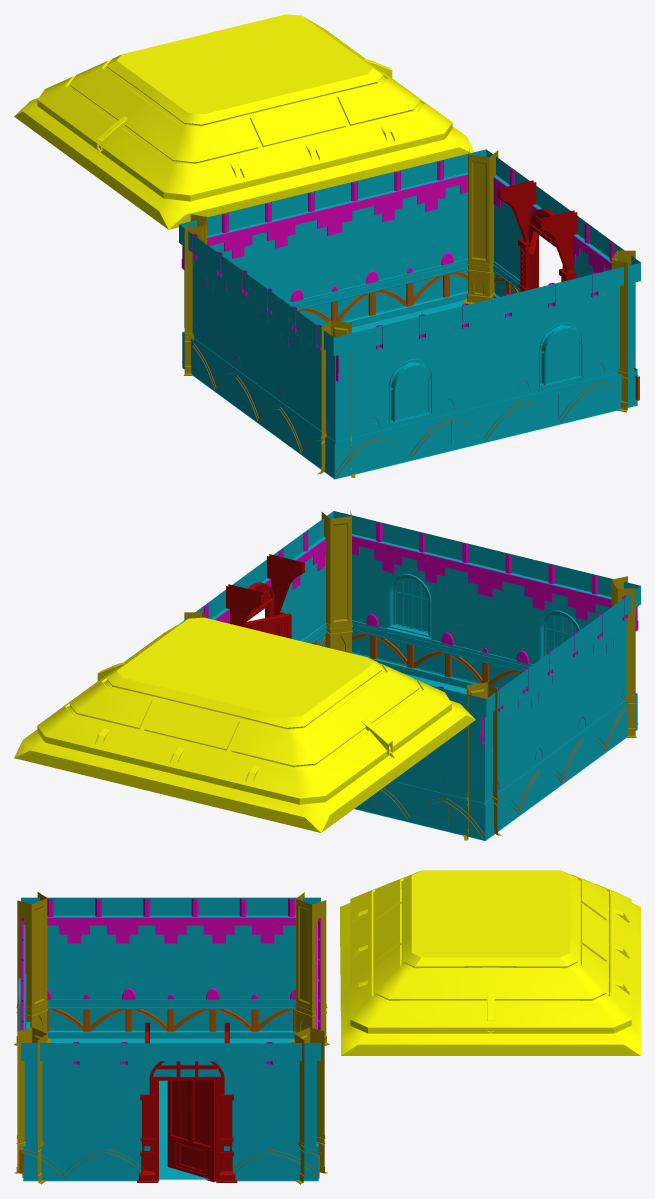
The model's file is New_Room.fbx.
3 renders of one model, top to bottom at view 1: azimuth 30°, elevation 25°; view 2: azimuth 150°, elevation 25°; view 3: azimuth 270°, elevation 25°, orthographic. The views are drawn at different scales.
Visible parts, largest first — view 1: Room_id_Wall, Roof, pole, Wall_pattern1, polySurface5, Beam1; view 2: Roof, Room_id_Wall, Wall_pattern1, pole, polySurface5, Beam1, polySurface7; view 3: Room_id_Wall, Roof, pole, Wall_pattern1, polySurface7, polySurface5, Beam1.
Part boxes in pixels (bbox=[...]): Room_id_Wall: bbox=[179, 149, 640, 479]; Roof: bbox=[14, 14, 474, 229]; pole: bbox=[183, 149, 635, 477]; Wall_pattern1: bbox=[181, 160, 614, 432]; polySurface5: bbox=[498, 180, 577, 291]; Beam1: bbox=[182, 271, 639, 476]; Roof: bbox=[14, 617, 475, 832]; Room_id_Wall: bbox=[181, 511, 640, 840]; Wall_pattern1: bbox=[203, 521, 638, 790]; pole: bbox=[184, 511, 636, 840]; polySurface5: bbox=[226, 554, 304, 627]; Beam1: bbox=[312, 633, 638, 838]; polySurface7: bbox=[244, 613, 291, 638]; Room_id_Wall: bbox=[18, 897, 320, 1181]; Roof: bbox=[340, 870, 640, 1055]; pole: bbox=[14, 892, 329, 1184]; Wall_pattern1: bbox=[20, 898, 320, 1067]; polySurface7: bbox=[167, 1080, 215, 1182]; polySurface5: bbox=[137, 1022, 237, 1182]; Beam1: bbox=[19, 1009, 321, 1178].
Bounding box in the file's own units: 608 × 370 × 1066.
